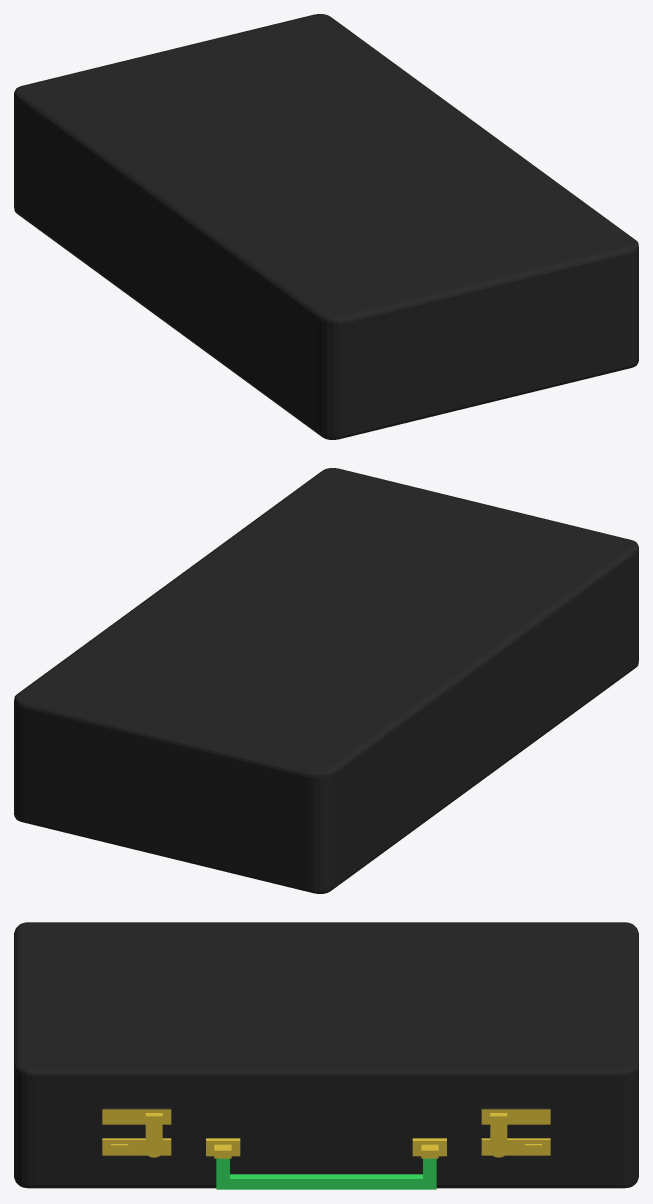
Rendered from Suitcase.fbx.
3 renders of one model, top to bottom at view 1: azimuth 30°, elevation 25°; view 2: azimuth 150°, elevation 25°; view 3: azimuth 270°, elevation 25°, orthographic. The views are drawn at different scales.
Parts seen in each view (by area): view 1: Suitcase_Top, Suitcase_Bottom; view 2: Suitcase_Top, Suitcase_Bottom; view 3: Suitcase_Top, Suitcase_Bottom.
Part boxes in pixels (x1,y1,x2,y2): Suitcase_Top: (14,14,638,372); Suitcase_Bottom: (14,144,638,439); Suitcase_Top: (14,468,638,826); Suitcase_Bottom: (14,598,638,893); Suitcase_Top: (14,922,638,1157); Suitcase_Bottom: (14,1115,638,1189).
Bounding box in the file's own units: 656 × 228 × 1086.
